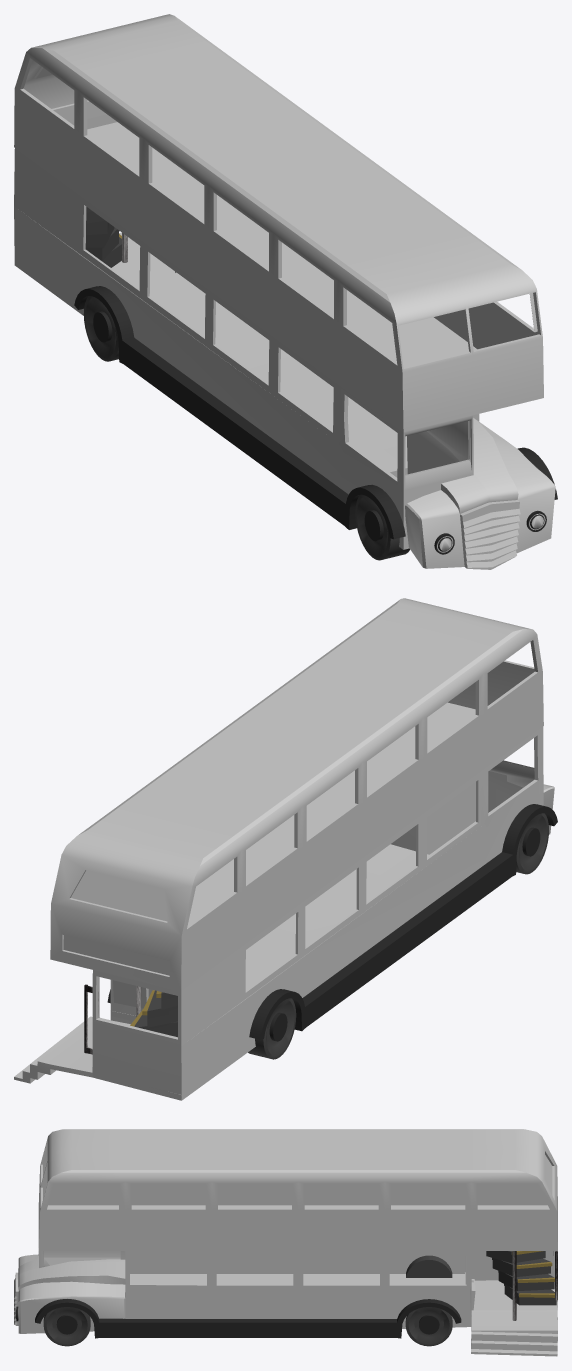
The model's file is bus.fbx.
3 views of the same model, one above another, from view 1: azimuth 30°, elevation 25°; view 2: azimuth 150°, elevation 25°; view 3: azimuth 270°, elevation 25° (orthographic). The views are drawn at different scales.
Parts seen in each view (by area): view 1: Cube.002; view 2: Cube.002; view 3: Cube.002.
Boxes of the visible parts, left/top/right/bottom form: Cube.002: left=14, top=14, right=557, bottom=569; Cube.002: left=14, top=598, right=557, bottom=1100; Cube.002: left=14, top=1129, right=557, bottom=1356.
Bounding box in the file's own units: 342 × 441 × 1257.
